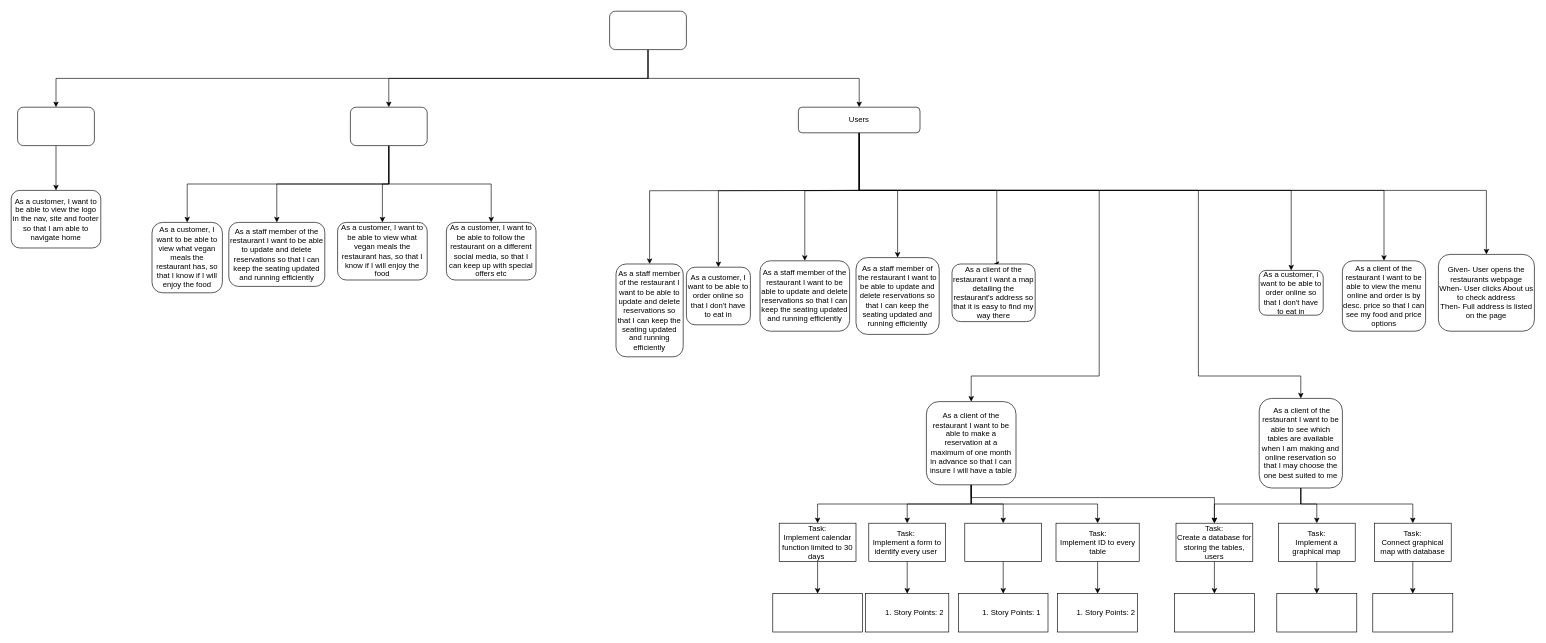
Image size: 1546x643. Some labels were removed from this diagram. The shapes that lost their labels are listed below. From the top down, each one's centre as x and y in pixels, then its label:
[647,30]: Webpage
[55,126]: Logo Design
[388,126]: Social media links
[1003,542]: Task: Implement a confirmation email
[817,612]: Story Points: 6
[1214,612]: Story Points: 5
[1316,612]: Story Points: 7
[1412,612]: Story Points: 3
